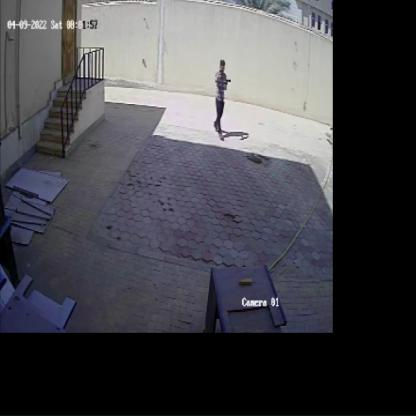handgun: (213, 78, 234, 92)
